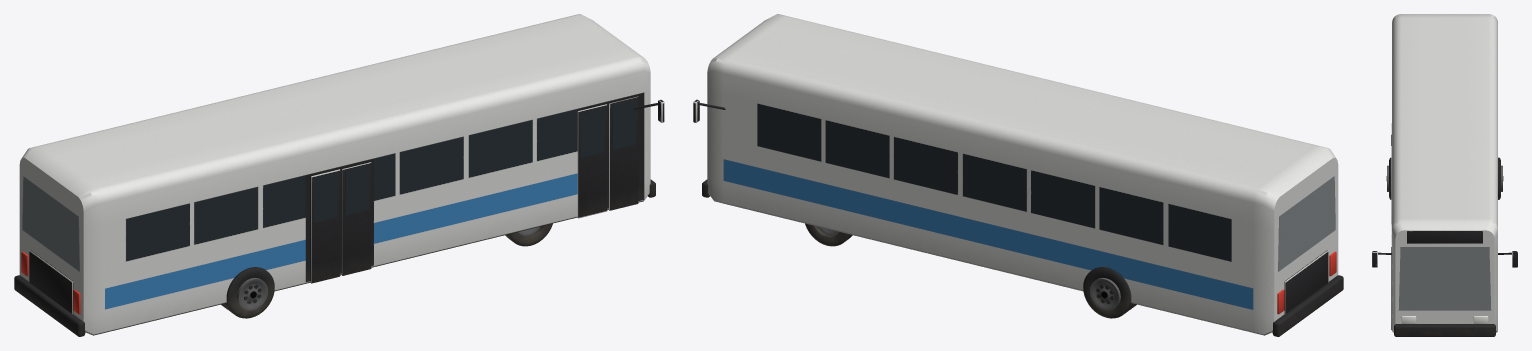
Rendered from onibus-urbano-12m.glb.
3 renders of one model, left to right at view 1: azimuth 30°, elevation 25°; view 2: azimuth 150°, elevation 25°; view 3: azimuth 270°, elevation 25°, orthographic. The views are drawn at different scales.
Parts seen in each view (by area): view 1: body, glass_rear, bumper_rear, wheel_rr_tire, wheel_rr_rim; view 2: body, glass_rear, bumper_rear, wheel_rl_tire, wheel_rl_rim; view 3: body, glass_windshield, bumper_front, wheel_rl_tire, headlight_left, headlight_right, wheel_rr_tire.
Boxes of the visible parts, bbox=[...] form: body: bbox=[19, 14, 664, 335]; glass_rear: bbox=[22, 176, 79, 271]; bumper_rear: bbox=[14, 275, 85, 336]; wheel_rr_tire: bbox=[221, 267, 274, 318]; wheel_rr_rim: bbox=[237, 277, 267, 310]; body: bbox=[693, 14, 1338, 335]; glass_rear: bbox=[1278, 176, 1335, 271]; bumper_rear: bbox=[1272, 275, 1343, 336]; wheel_rl_tire: bbox=[1083, 267, 1136, 318]; wheel_rl_rim: bbox=[1090, 277, 1120, 310]; body: bbox=[1372, 14, 1517, 332]; glass_windshield: bbox=[1399, 247, 1490, 310]; bumper_front: bbox=[1394, 324, 1495, 336]; wheel_rl_tire: bbox=[1498, 157, 1500, 199]; headlight_left: bbox=[1473, 316, 1488, 323]; headlight_right: bbox=[1401, 316, 1416, 323]; wheel_rr_tire: bbox=[1389, 157, 1391, 199].
Size of what is drawn, in the model's own units: 12.24 by 3.25 by 3.44.
6 materials, 5 textured.
